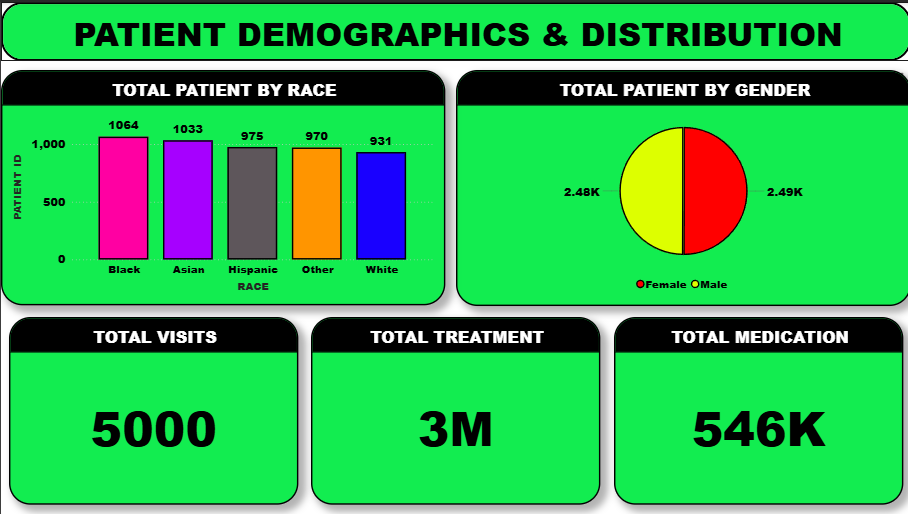

The page's visual inventory and layout, read from the dashboard file:
{"tool":"powerbi","page":{"name":"Patient Demographics & Distribution","canvas":[1280,720],"ordinal":0},"visuals":[{"type":"textbox","title":"PATIENT DEMOGRAPHICS & DISTRIBUTION","box":[0,0,1280,82.9],"z":0},{"type":"pieChart","title":"TOTAL PATIENT BY GENDER","fields":{"Category":["patients.Gender"],"Y":["CountNonNull(patients.Patient ID)"]},"box":[640,95.6,640,332],"z":1000},{"type":"clusteredColumnChart","title":"TOTAL PATIENT BY RACE","fields":{"Y":["CountNonNull(patients.Patient ID)"],"Category":["patients.Race"]},"box":[0,95.6,624.5,330.5],"z":2000},{"type":"card","title":"TOTAL VISITS","fields":{"Values":["XMEASURE.XTOTAL VISITS"]},"box":[11,443.2,407.4,264.3],"z":3000},{"type":"card","title":"TOTAL TREATMENT","fields":{"Values":["XMEASURE.TOTAL TREATNMENT COST"]},"box":[436.3,443.2,407.4,264.3],"z":4000},{"type":"card","title":"TOTAL MEDICATION","fields":{"Values":["XMEASURE.TOTAL MEDICATION COST"]},"box":[861.6,443.2,407.4,264.3],"z":5000}]}

Visuals, with their boxes in screenshot pixels (x1, y1, x2, y2), scaled from the page's 1280x720 canvas onto the 908x514 screenshot:
"PATIENT DEMOGRAPHICS & DISTRIBUTION" textbox: pyautogui.locateOnScreen(0, 0, 907, 59)
"TOTAL PATIENT BY GENDER" pieChart: pyautogui.locateOnScreen(454, 68, 907, 305)
"TOTAL PATIENT BY RACE" clusteredColumnChart: pyautogui.locateOnScreen(0, 68, 443, 304)
"TOTAL VISITS" card: pyautogui.locateOnScreen(8, 316, 297, 505)
"TOTAL TREATMENT" card: pyautogui.locateOnScreen(310, 316, 598, 505)
"TOTAL MEDICATION" card: pyautogui.locateOnScreen(611, 316, 900, 505)
